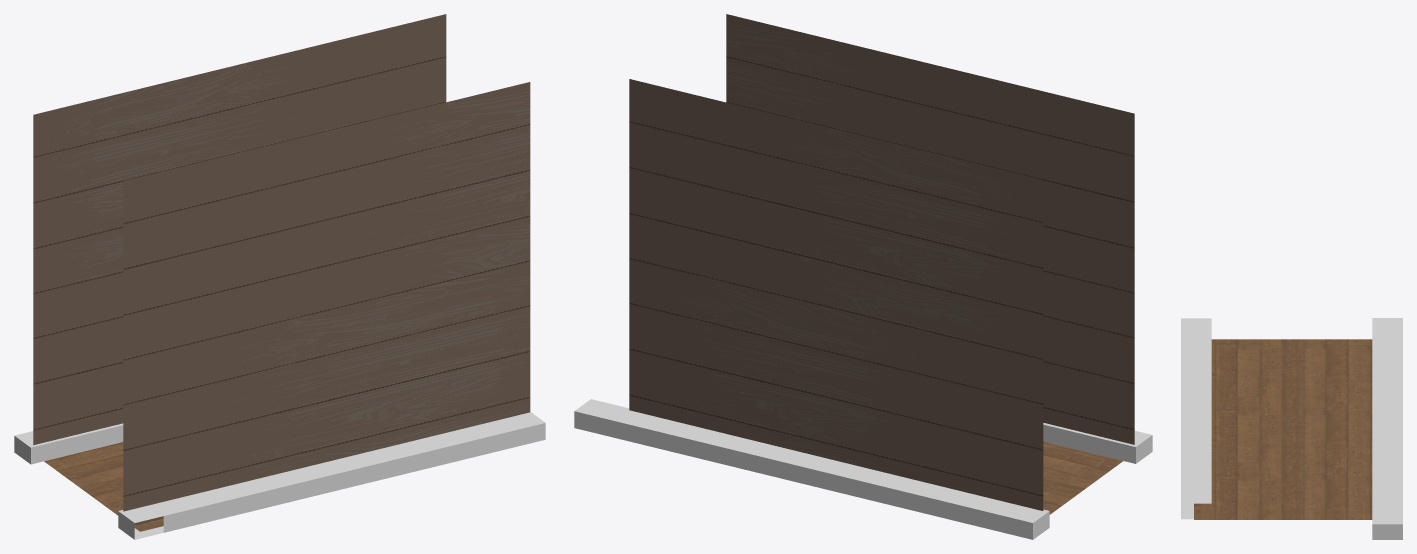
File: corridor_extendable.gltf
The picture shows the model from 3 angles, left to right: view 1: azimuth 30°, elevation 25°; view 2: azimuth 150°, elevation 25°; view 3: azimuth 270°, elevation 25°; orthographic projection. The views are drawn at different scales.
Visible parts, largest first — view 1: Wall Standard (Corner) Alt.008, Wall Standard.009, Wall Standard (Corner) Border.012, Plane.009, Wall Standard Border.009; view 2: Wall Standard.009, Wall Standard (Corner) Alt.008, Wall Standard Border.009, Plane.009, Wall Standard (Corner) Border.012; view 3: Plane.009, Wall Standard Border.009, Wall Standard (Corner) Border.012.
Part boxes in pixels (x1=…): Wall Standard (Corner) Alt.008: x1=123, y1=82, x2=530, y2=525; Wall Standard.009: x1=33, y1=14, x2=446, y2=445; Wall Standard (Corner) Border.012: x1=118, y1=412, x2=545, y2=539; Plane.009: x1=44, y1=442, x2=163, y2=531; Wall Standard Border.009: x1=14, y1=423, x2=123, y2=464; Wall Standard.009: x1=629, y1=79, x2=1043, y2=510; Wall Standard (Corner) Alt.008: x1=726, y1=14, x2=1134, y2=444; Wall Standard Border.009: x1=574, y1=399, x2=1049, y2=539; Plane.009: x1=1043, y1=441, x2=1122, y2=514; Wall Standard (Corner) Border.012: x1=1043, y1=423, x2=1152, y2=463; Plane.009: x1=1194, y1=339, x2=1372, y2=519; Wall Standard Border.009: x1=1372, y1=318, x2=1402, y2=539; Wall Standard (Corner) Border.012: x1=1181, y1=318, x2=1211, y2=519.
Bounding box in the file's own units: 4.13 × 3 × 1.88.
3 materials, 3 textured.
